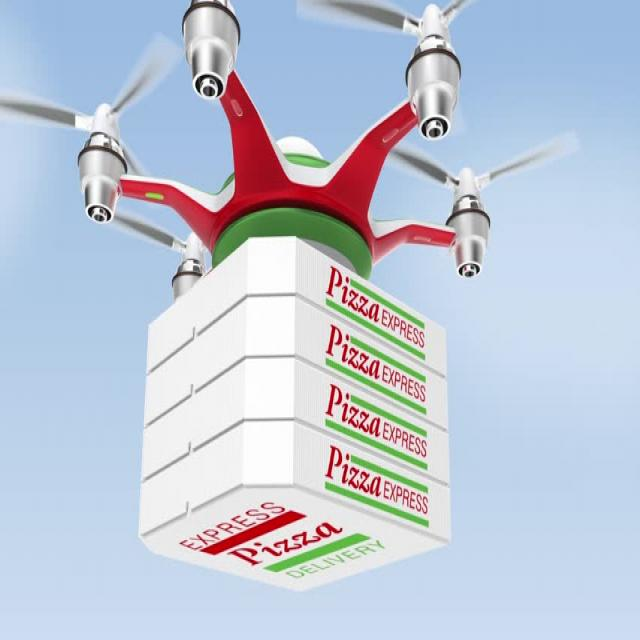drones: (0, 0, 599, 301)
